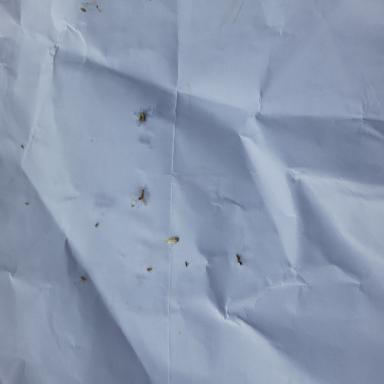pbw: (164, 237, 179, 244)
